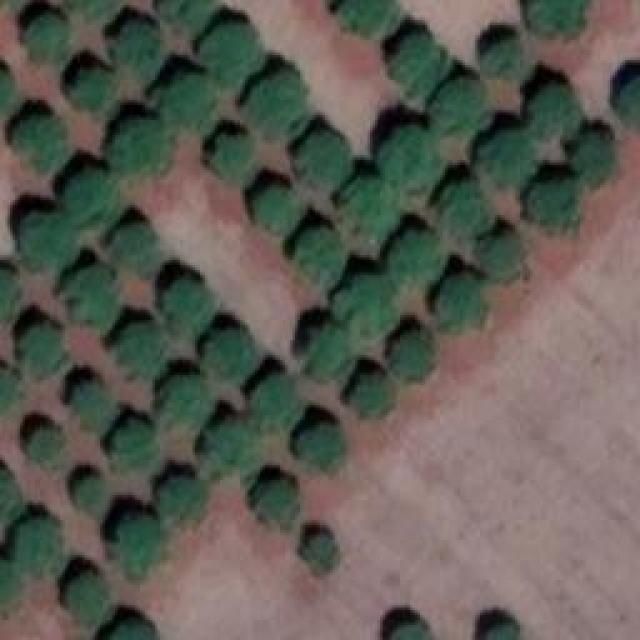Tree: (388, 28, 453, 98), (382, 128, 440, 201), (250, 70, 315, 135), (335, 280, 398, 340), (200, 20, 260, 80), (15, 210, 75, 268), (335, 185, 393, 245), (65, 265, 120, 328), (200, 325, 263, 380), (478, 128, 533, 188), (295, 130, 350, 190), (438, 182, 493, 240), (10, 515, 63, 575), (65, 165, 118, 223), (112, 123, 170, 176), (115, 510, 163, 573), (298, 225, 348, 285), (530, 78, 583, 133), (390, 235, 443, 290), (165, 277, 215, 335), (160, 380, 213, 430), (430, 85, 485, 133), (250, 180, 298, 235), (17, 320, 65, 375), (162, 80, 210, 133), (257, 373, 305, 426), (530, 178, 580, 228), (18, 113, 63, 168), (438, 287, 488, 335), (117, 323, 165, 373), (23, 15, 68, 68), (75, 380, 120, 433), (118, 418, 161, 473), (118, 17, 158, 75), (475, 235, 525, 280), (118, 223, 163, 273), (387, 335, 435, 380), (303, 333, 353, 376), (303, 420, 346, 470), (580, 130, 620, 183), (208, 417, 251, 465), (165, 472, 208, 520), (527, 0, 585, 35), (210, 135, 250, 183), (342, 0, 397, 32), (350, 380, 393, 420), (260, 478, 298, 523), (68, 573, 103, 618), (480, 40, 520, 78), (158, 0, 208, 30), (72, 475, 110, 513), (75, 64, 110, 105), (105, 617, 160, 640), (30, 430, 68, 463), (305, 532, 338, 570), (622, 75, 640, 138), (387, 617, 434, 640), (0, 365, 20, 413), (0, 470, 20, 518), (0, 560, 18, 613), (0, 268, 15, 318), (480, 622, 520, 640)
